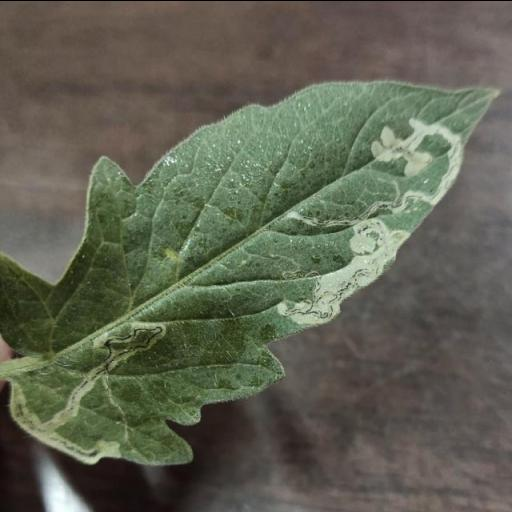disease_tomato: (0, 77, 503, 467)
